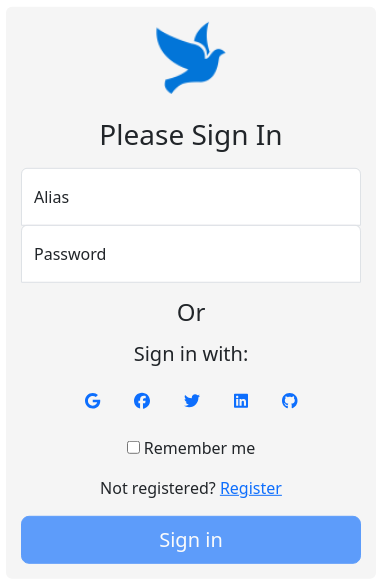
Test: Login Component › enables sign-in button when both fields have text
The width and height of the screenshot is (383, 586).
Type "alias" into the field labelled "Alias" at (191, 196), box x1=21 y1=167 x2=361 y2=225
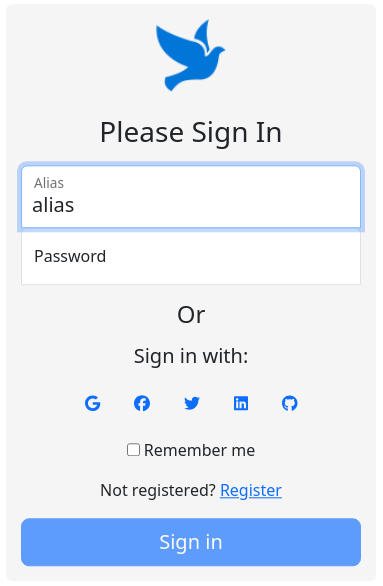
Type "password" into the password field labelled "Password" at (191, 256), box x1=21 y1=227 x2=361 y2=285
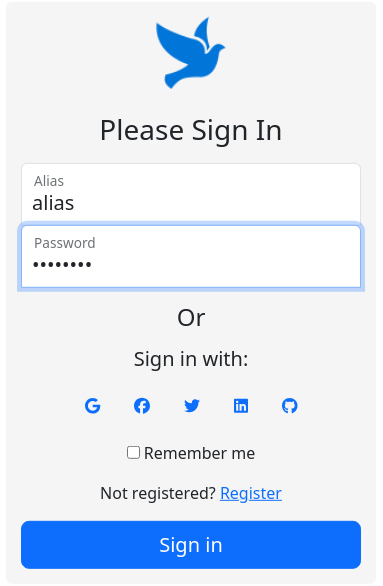
expect the button "Sign in" is enabled: met, box x1=21 y1=521 x2=361 y2=569
